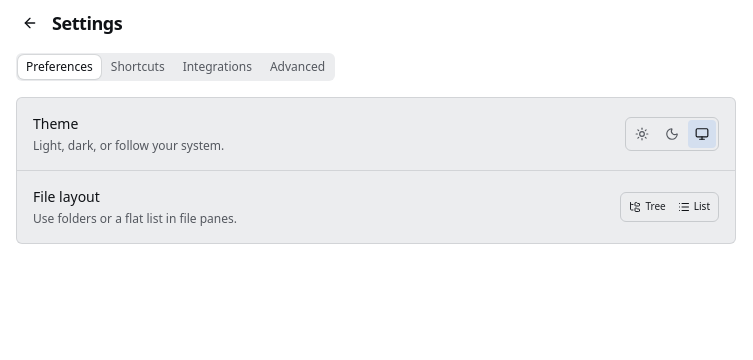
retries opening the settings file without reporting it as a failed preference save
The width and height of the screenshot is (753, 360).
Press the mouse on the tab "Advanced" at [298, 67], box [262,55,333,79]
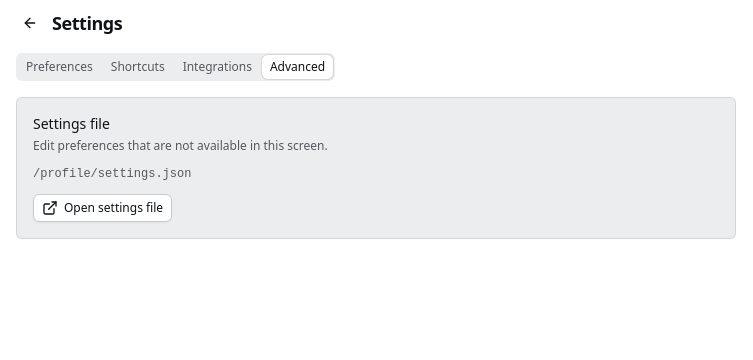
expect the text "/profile/settings.json" is shown: met, box [33,167,191,181]
Click the button "Open settings file" at [103, 208], box [33,194,172,222]
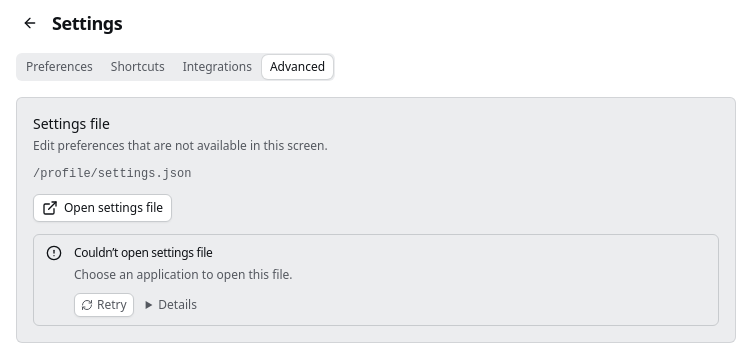
expect the text "Couldn’t open settings file" is shown: met, box [74,244,212,261]
Click the button "Retry" at [104, 304], box [74,292,134,316]
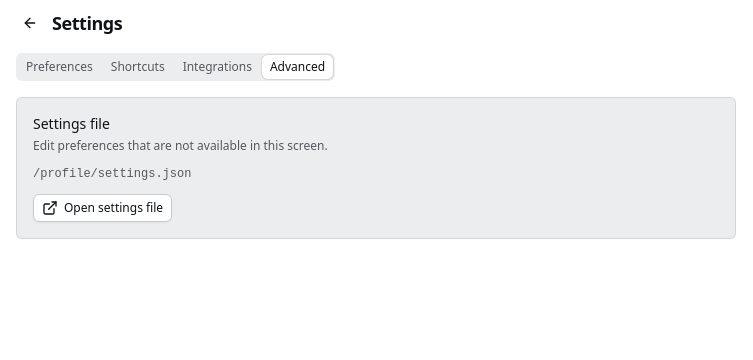
expect the text "Couldn’t open settings file" is gone: met
